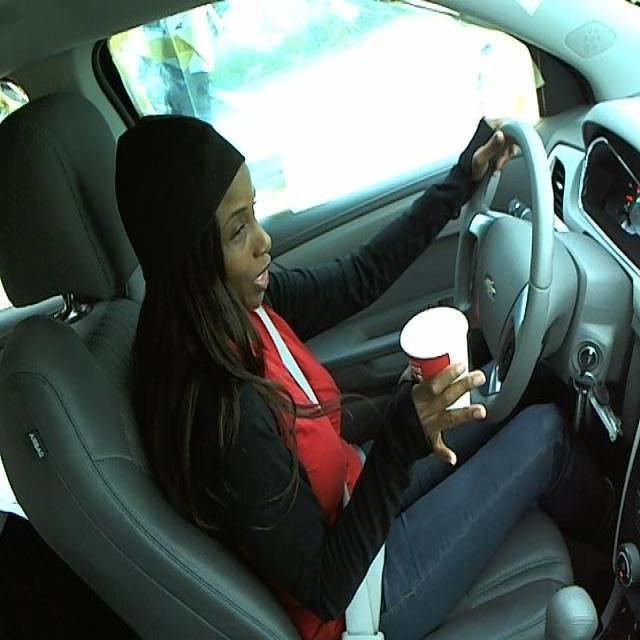Seatbelt: (400, 308, 469, 427)
